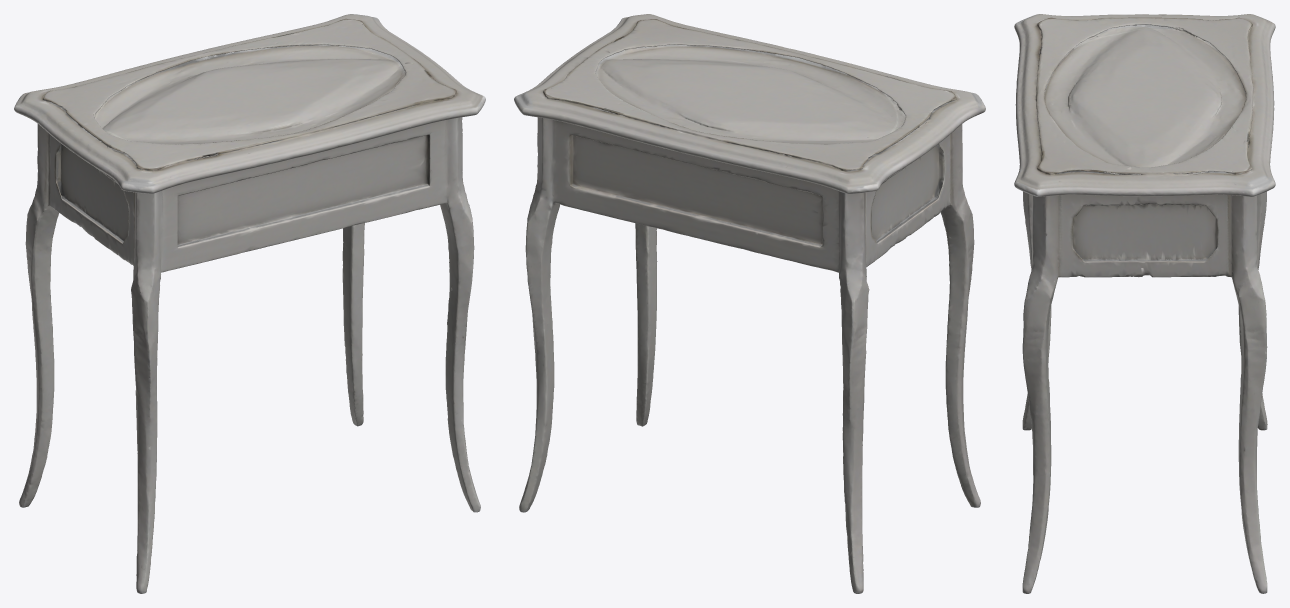
File: Console_Table.glb
3 views of the same model, side by side, from view 1: azimuth 30°, elevation 25°; view 2: azimuth 150°, elevation 25°; view 3: azimuth 270°, elevation 25° (orthographic).
Size of the model in its own units: 1.75 by 1.9 by 1.09.
Materials: 1 (1 with a texture image).
